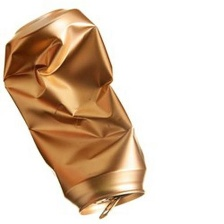can: (1, 8, 159, 220)
